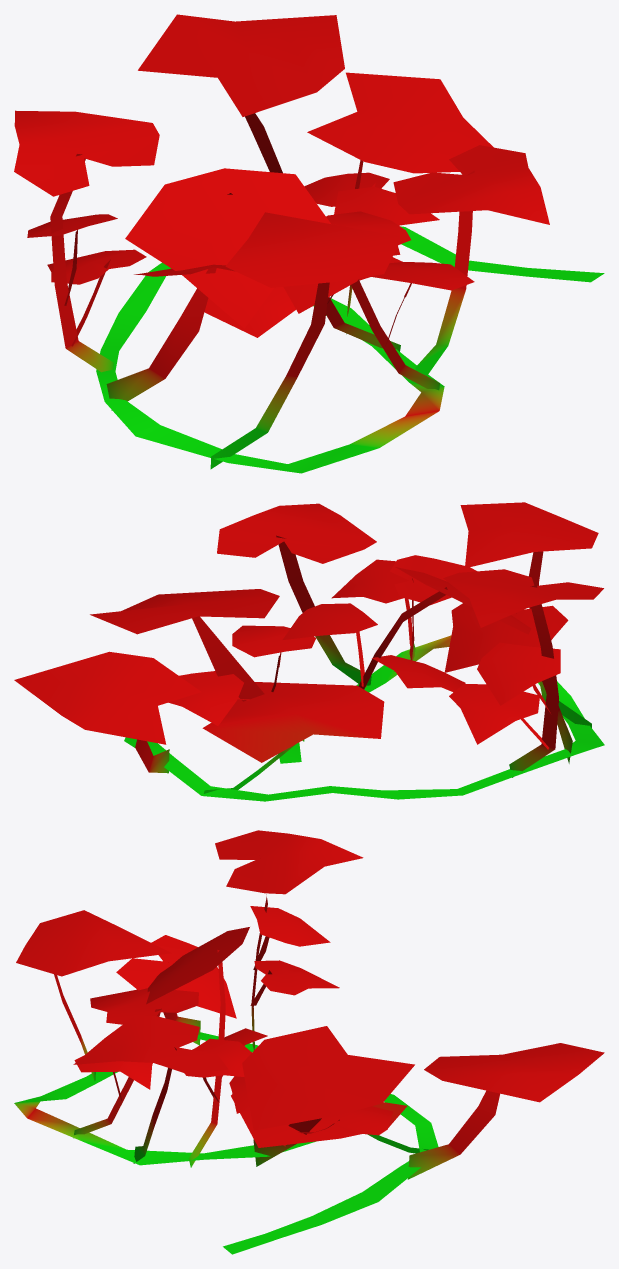
Rendered from Var4_LOD2.fbx.
3 renders of one model, top to bottom at view 1: azimuth 30°, elevation 25°; view 2: azimuth 150°, elevation 25°; view 3: azimuth 270°, elevation 25°, orthographic. The views are drawn at different scales.
Visible parts, largest first — view 1: _hw61_Var4_LOD2; view 2: _hw61_Var4_LOD2; view 3: _hw61_Var4_LOD2.
Part boxes in pixels (x1,y1,x2,y2): _hw61_Var4_LOD2: (14, 14, 604, 473); _hw61_Var4_LOD2: (14, 502, 604, 801); _hw61_Var4_LOD2: (14, 830, 604, 1254).
Size of the model in its own units: 29.54 by 12.71 by 31.66.
